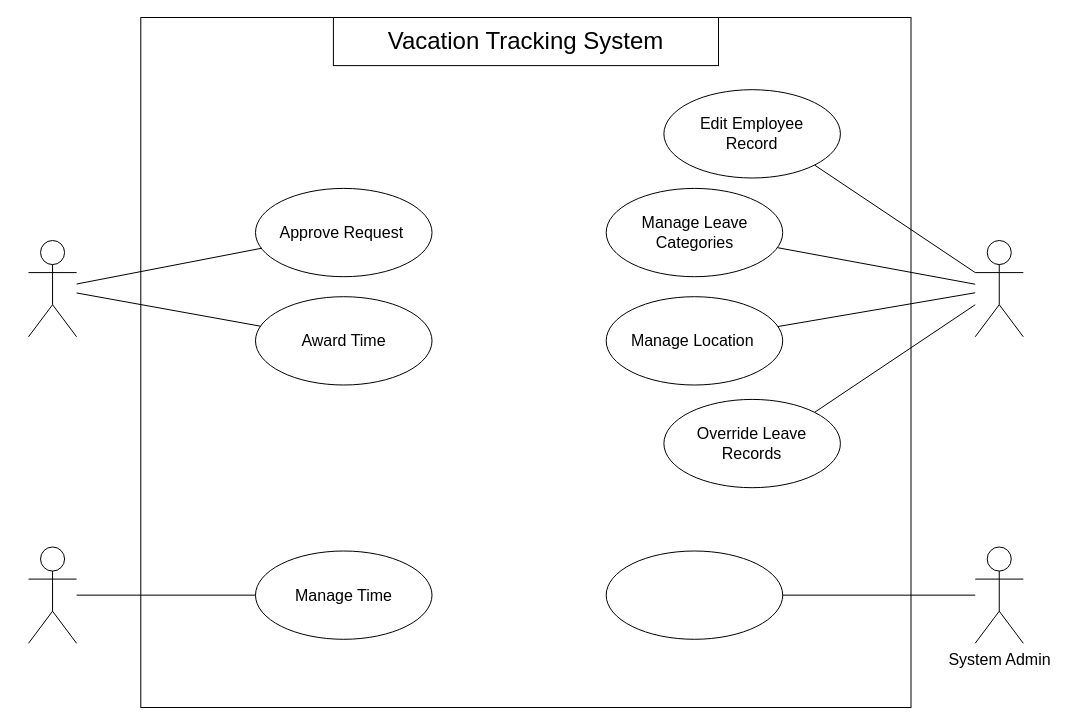
Image size: 1068x725. Some labels were removed from this diagram. Each missing label, with the centre of its shape:
Back Up Logs: (694,594)
Employee: (52,594)
HR clerk: (998,288)
Manager: (52,288)
